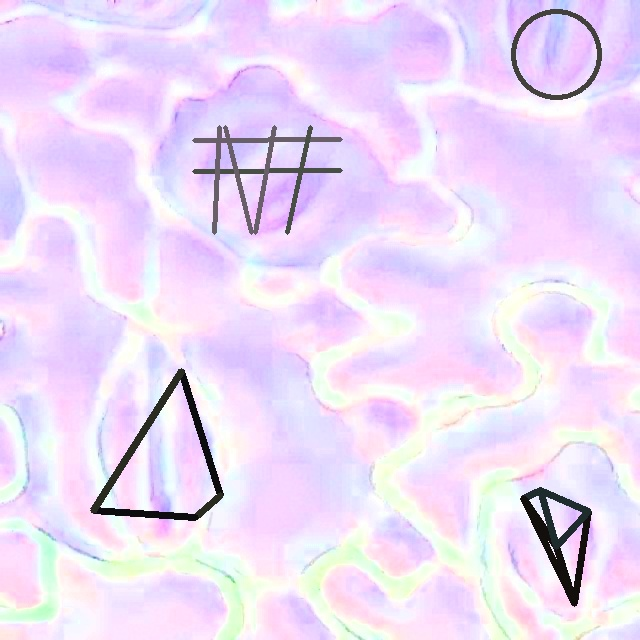close: (520, 487, 591, 606)
open: (90, 368, 223, 520), (192, 125, 342, 234), (510, 9, 603, 100)
